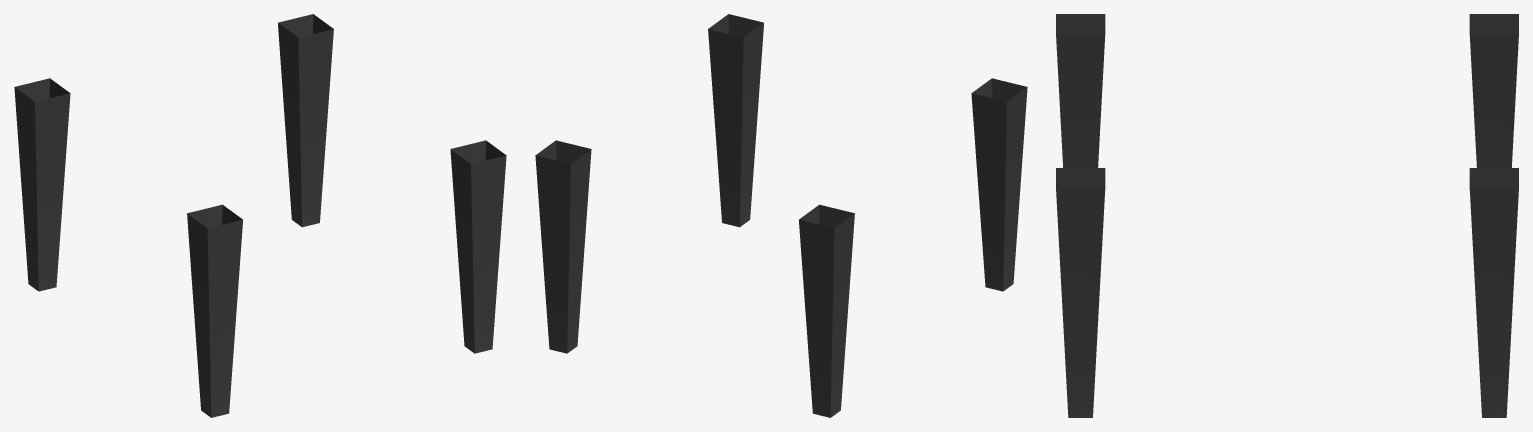
Rendered from legs.gltf.
The picture shows the model from 3 angles, left to right: view 1: azimuth 30°, elevation 25°; view 2: azimuth 150°, elevation 25°; view 3: azimuth 270°, elevation 25°; orthographic projection. The views are drawn at different scales.
Visible parts, largest first — view 1: Cube; view 2: Cube; view 3: Cube.
Part boxes in pixels (x1,y1,x2,y2): Cube: (14, 14, 506, 417); Cube: (535, 14, 1027, 417); Cube: (1056, 14, 1518, 417).
Size of the model in its own units: 1.68 by 1.05 by 1.88.
